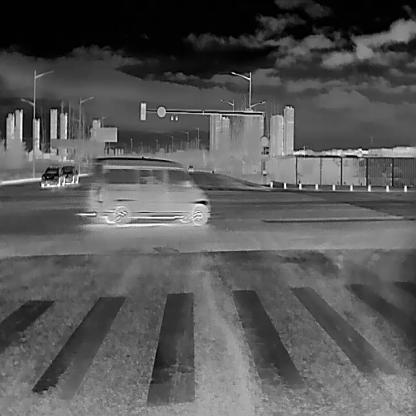car: (89, 154, 211, 224), (40, 166, 64, 187), (61, 164, 78, 184), (186, 164, 194, 172)
